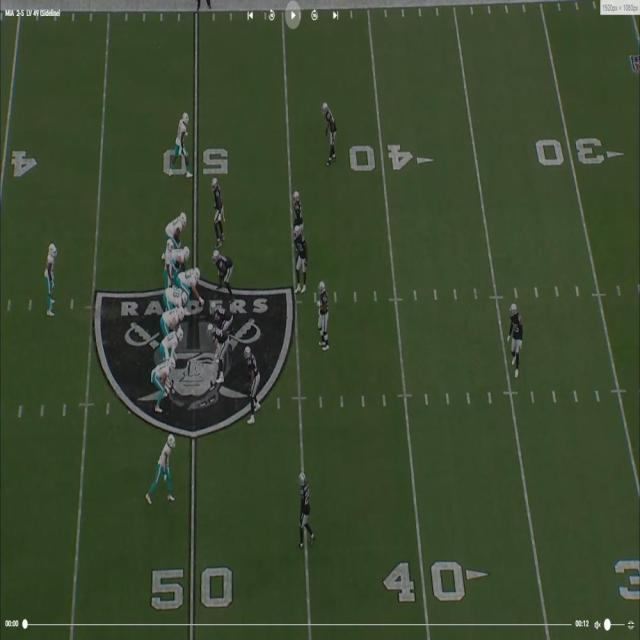center: (185, 267, 208, 314)
db: (242, 347, 258, 419), (509, 297, 522, 379), (299, 472, 313, 542), (323, 102, 337, 164)
lb: (318, 280, 332, 352), (295, 220, 308, 294), (292, 187, 304, 220)
qb: (163, 239, 174, 284)
skill: (153, 359, 176, 415), (175, 110, 191, 177), (155, 433, 173, 487), (46, 241, 56, 318), (167, 327, 185, 356)
